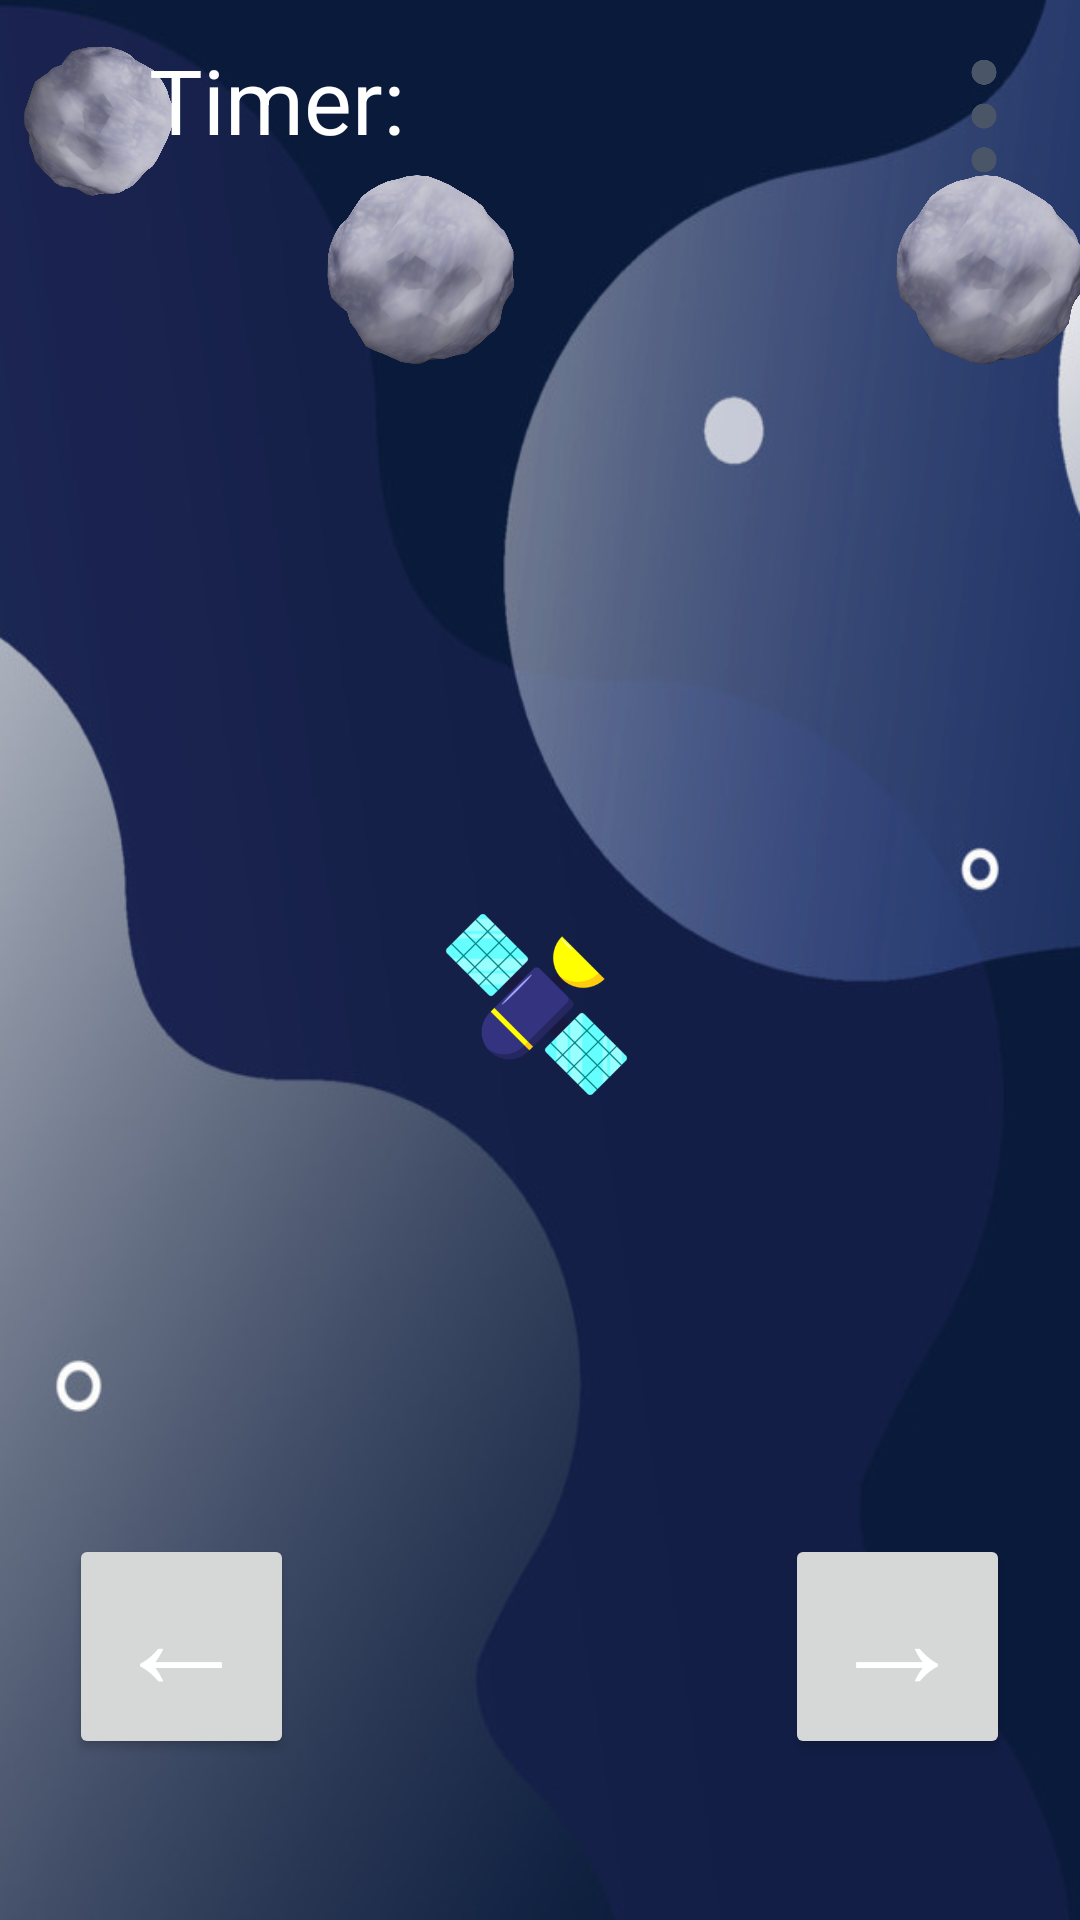

Icons on this 1080 × 1920 Android screen, each with the point to tap as (x=x, y=y):
station: (x=536, y=1004)
